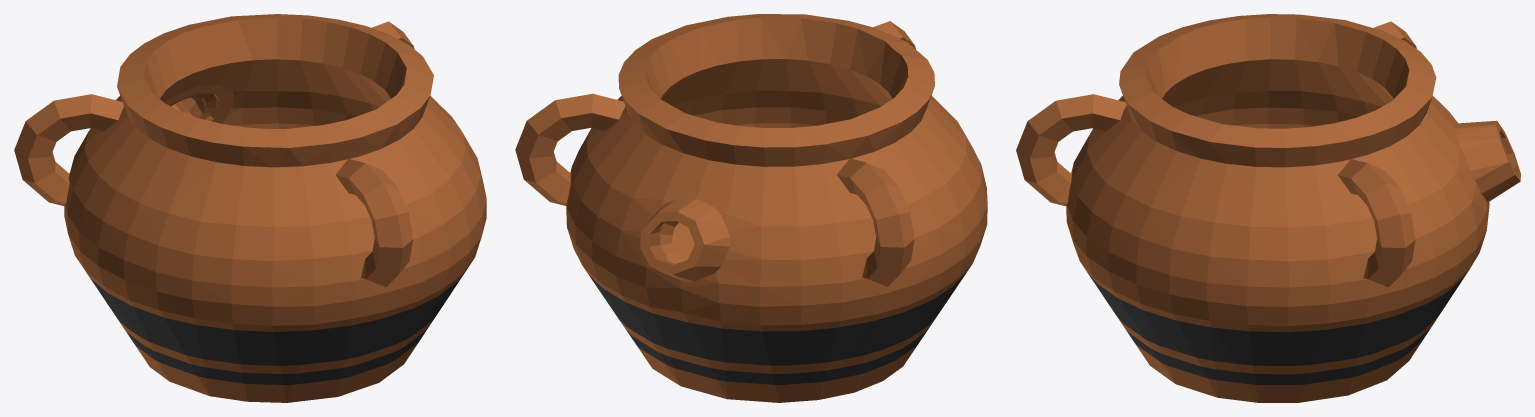
The model's file is Pottery 11_3b.fbx.
3 renders of one model, left to right at view 1: azimuth 30°, elevation 25°; view 2: azimuth 150°, elevation 25°; view 3: azimuth 270°, elevation 25°, orthographic.
Parts seen in each view (by area): view 1: Pottery 3_11b.003, Pottery 3_11b.004, Pottery 11_3b, Pottery 3_11b.005, Pottery 3_11b.002, Pottery 3_11b.001; view 2: Pottery 3_11b.001, Pottery 3_11b.005, Pottery 3_11b.002, Pottery 11_3b, Pottery 3_11b.003, Pottery 3_11b.004; view 3: Pottery 3_11b.002, Pottery 3_11b.003, Pottery 11_3b, Pottery 3_11b.001, Pottery 3_11b.005, Pottery 3_11b.004.
Part boxes in pixels (bbox=[...]): Pottery 3_11b.003: bbox=[265, 85, 482, 361]; Pottery 3_11b.004: bbox=[98, 103, 273, 356]; Pottery 11_3b: bbox=[99, 270, 466, 402]; Pottery 3_11b.005: bbox=[14, 53, 164, 291]; Pottery 3_11b.002: bbox=[275, 14, 486, 234]; Pottery 3_11b.001: bbox=[116, 14, 288, 128]; Pottery 3_11b.001: bbox=[592, 97, 806, 328]; Pottery 3_11b.005: bbox=[759, 98, 965, 344]; Pottery 3_11b.002: bbox=[515, 17, 739, 303]; Pottery 11_3b: bbox=[608, 223, 958, 402]; Pottery 3_11b.003: bbox=[721, 14, 916, 127]; Pottery 3_11b.004: bbox=[880, 49, 987, 284]; Pottery 3_11b.002: bbox=[1136, 104, 1464, 369]; Pottery 3_11b.003: bbox=[1016, 44, 1188, 332]; Pottery 11_3b: bbox=[1082, 265, 1462, 402]; Pottery 3_11b.001: bbox=[1366, 37, 1520, 290]; Pottery 3_11b.005: bbox=[1266, 14, 1416, 128]; Pottery 3_11b.004: bbox=[1147, 14, 1270, 128].
Size of the model in its own units: 80.26 by 53.39 by 89.42.
